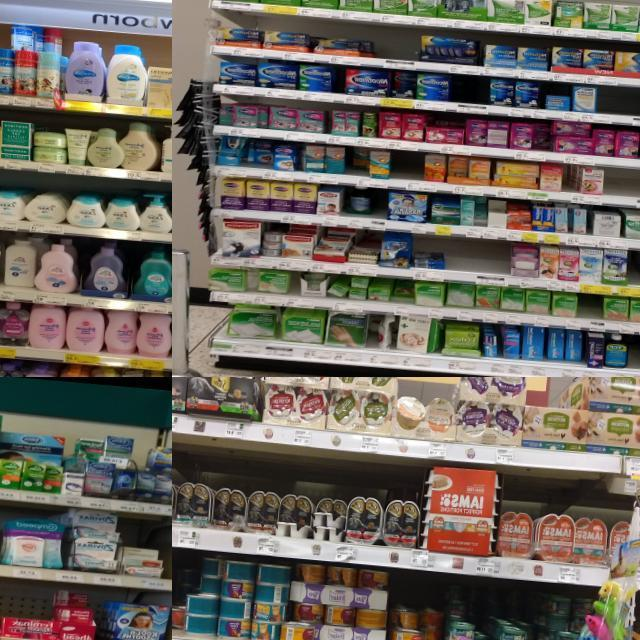empty: (444, 236, 508, 286), (376, 25, 418, 70), (595, 85, 640, 126), (602, 166, 640, 210), (450, 74, 490, 114), (390, 150, 424, 190), (576, 294, 603, 330), (368, 188, 388, 230), (625, 250, 640, 297), (625, 334, 640, 377)
